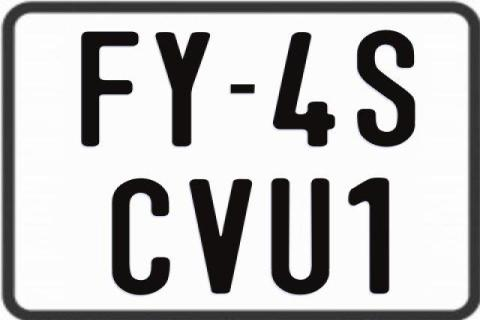0: (271, 30, 338, 148), (347, 177, 390, 297)
C: (109, 176, 173, 294)
F: (78, 30, 138, 148)
S: (356, 29, 420, 147)
U: (269, 179, 331, 299)
V: (188, 177, 252, 293)
Y: (152, 31, 210, 147)
